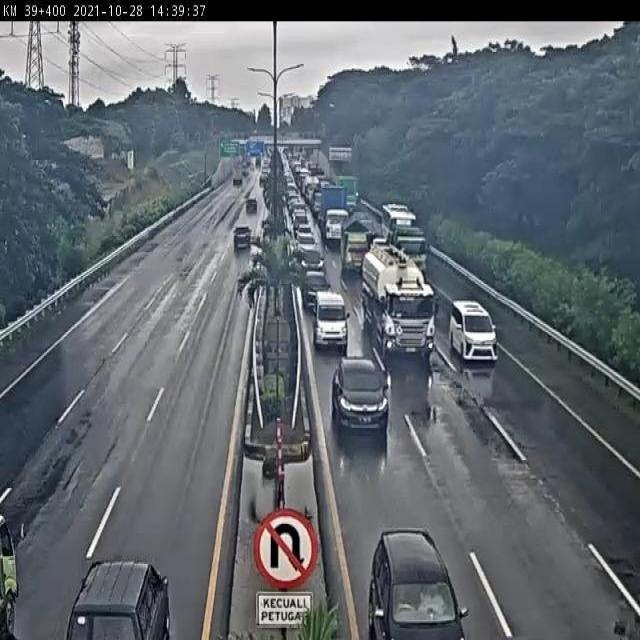car: (370, 526, 465, 640), (56, 557, 178, 640), (368, 228, 437, 355), (337, 358, 427, 453), (452, 300, 501, 371), (317, 294, 345, 349), (233, 219, 264, 256)
